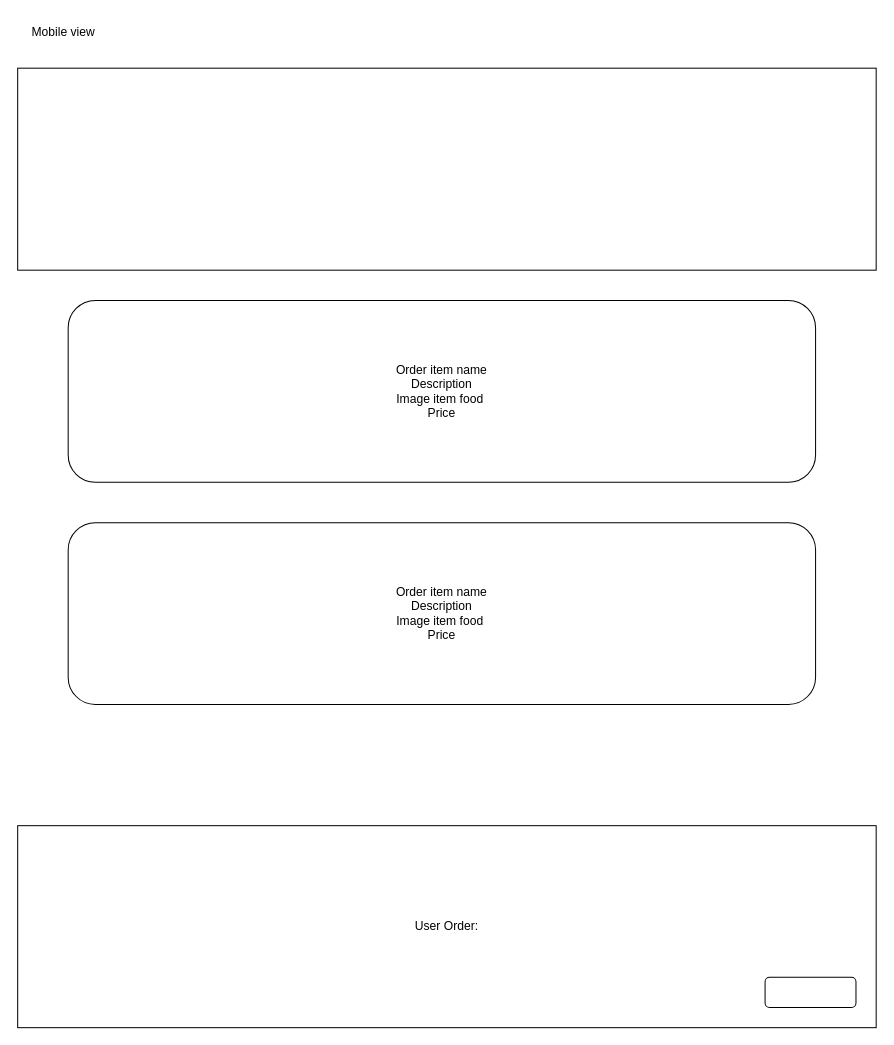
Image size: 894x1045. Some labels were removed from this diagram. The shapes that lost their labels are listed below. From the top down, each one's centre as x and y in pixels, then its label:
At (x=446, y=168): "Nav bar".
At (x=810, y=991): "Submit Order".
